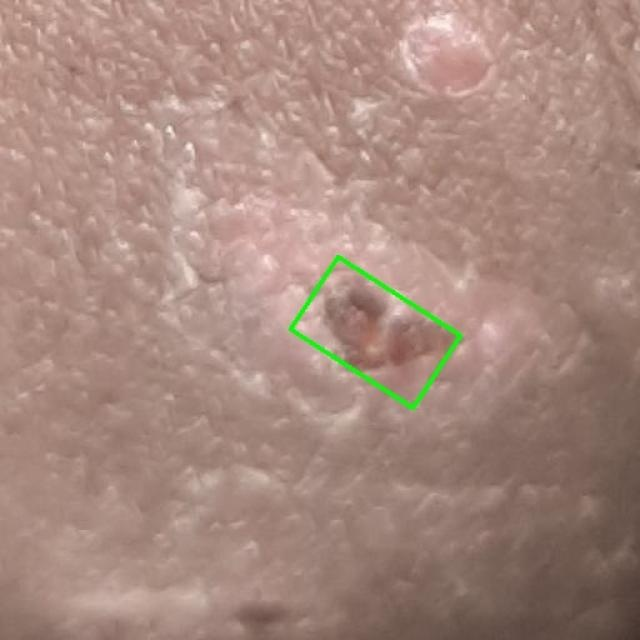Contact Dermatitis: (291, 257, 460, 408)
